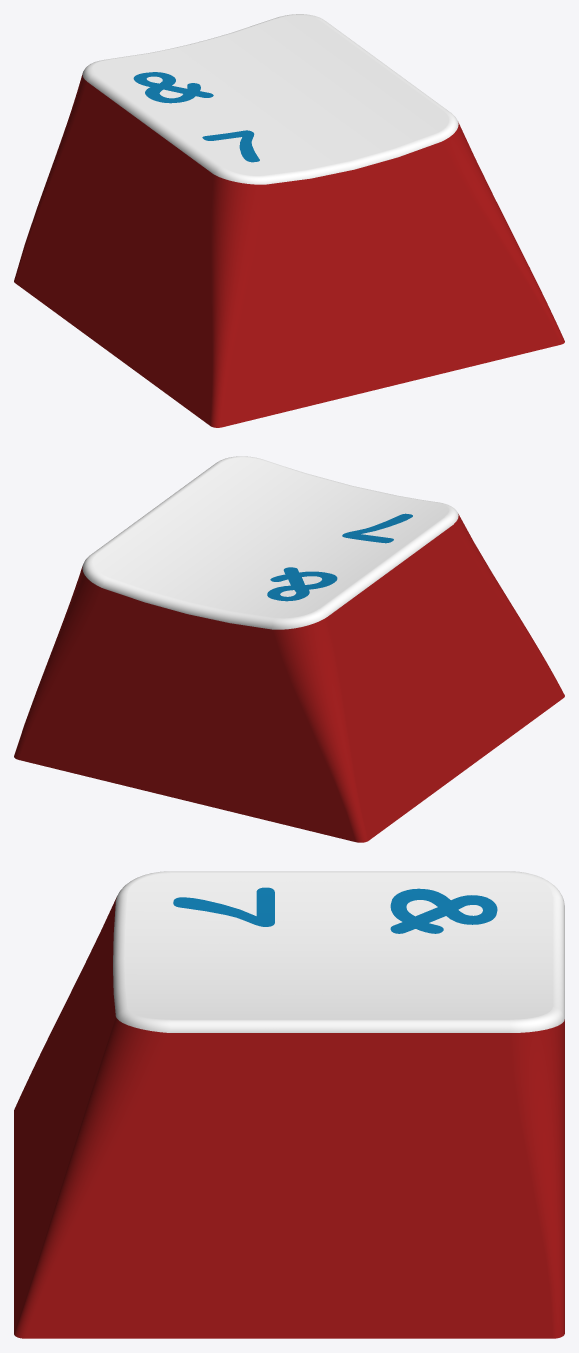
3 views of the same model, one above another, from view 1: azimuth 30°, elevation 25°; view 2: azimuth 150°, elevation 25°; view 3: azimuth 270°, elevation 25° (orthographic). The views are drawn at different scales.
Visible parts, largest first — view 1: Body1; view 2: Body1; view 3: Body1.
Part boxes in pixels (x1,y1,x2,y2): Body1: (14, 14, 564, 427); Body1: (14, 456, 564, 842); Body1: (14, 871, 564, 1338).
Size of the model in its own units: 18 by 9.95 by 18.
